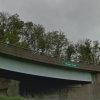Bridge: (4, 36, 95, 84)
